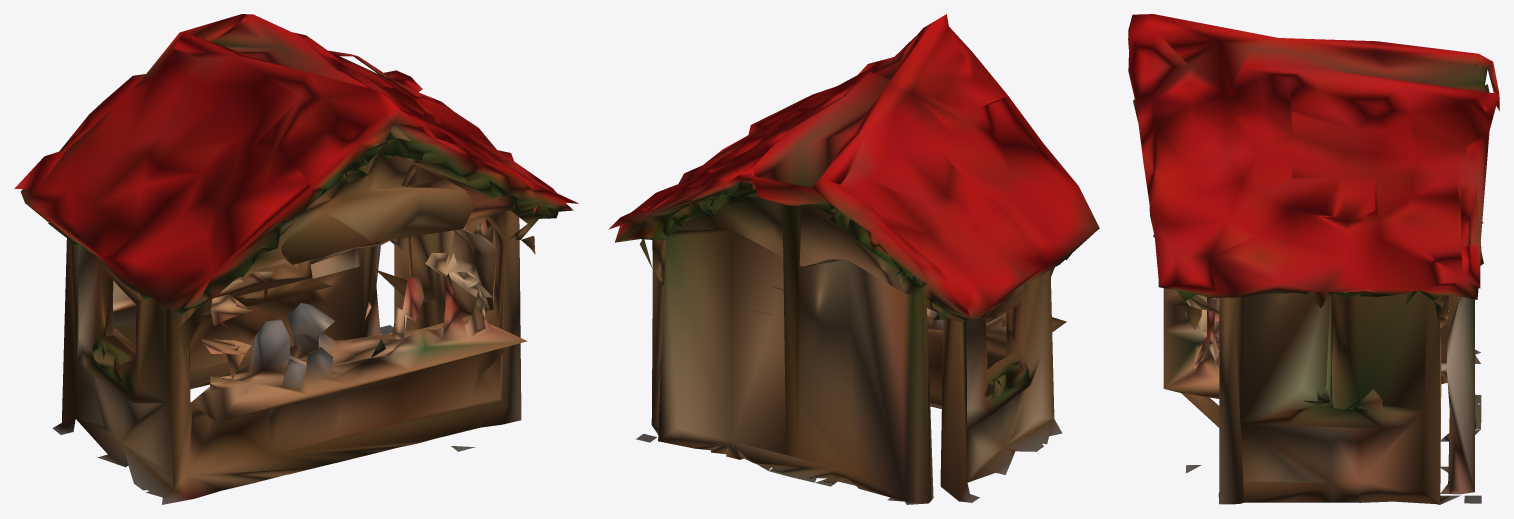
The model's file is redstall-lo.glb.
3 views of the same model, side by side, from view 1: azimuth 30°, elevation 25°; view 2: azimuth 150°, elevation 25°; view 3: azimuth 270°, elevation 25° (orthographic). The views are drawn at different scales.
Visible parts, largest first — view 1: geometry_0; view 2: geometry_0; view 3: geometry_0.
Part boxes in pixels (x1,y1,x2,y2): geometry_0: (14,14,578,504); geometry_0: (608,14,1099,504); geometry_0: (1128,14,1499,504).
Bounding box in the file's own units: 1.85 × 1.72 × 1.44.
